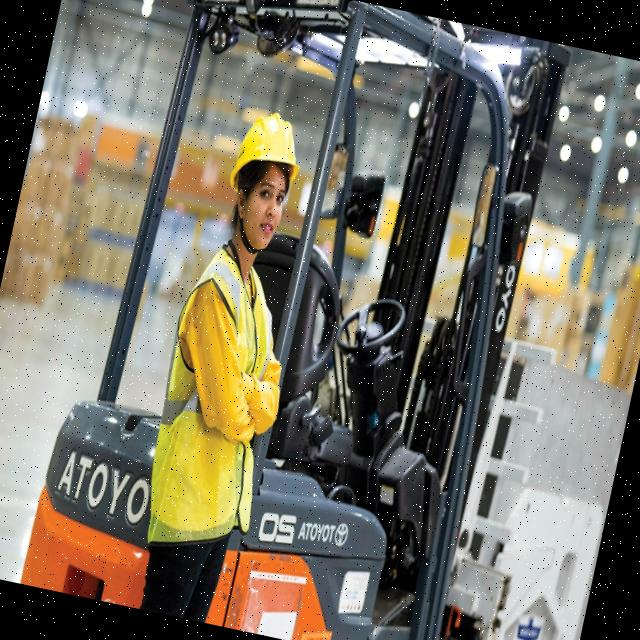Person: (118, 102, 338, 628)
